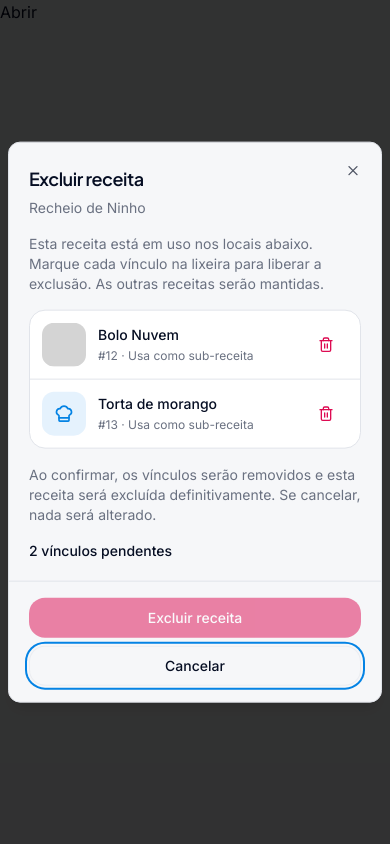
Test case: Recipe deletion confirmation › requires a fresh review when the server reports a changed dependency
Expected: the text "Bolo Nuvem" is shown, [98,326,179,343]
Step 1. Click the button named "Remover vínculo com Bolo Nuvem" → (326, 344), box [304,322,348,366]
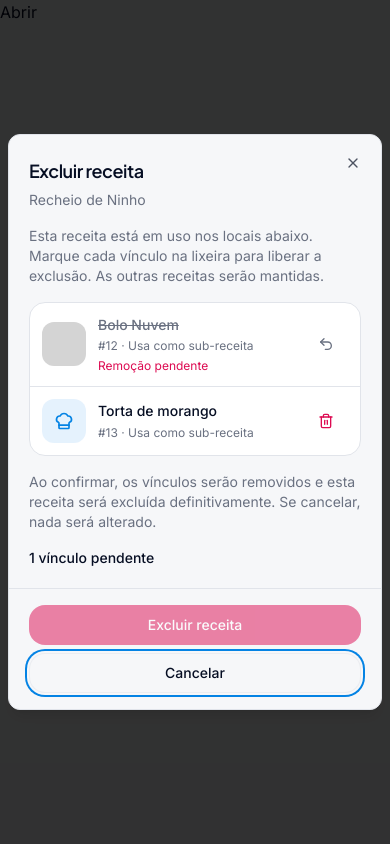
Step 2. Click the button named "Remover vínculo com Torta de morango" → (326, 421), box [304,399,348,443]
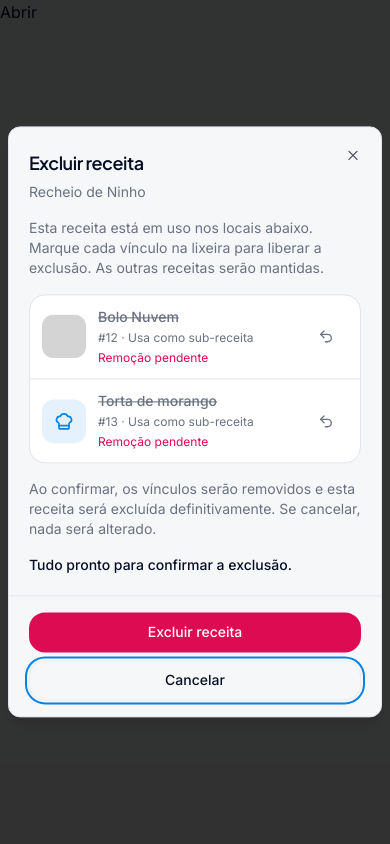
Step 3. Click the button "Excluir receita" → (195, 633), box [29,613,361,653]
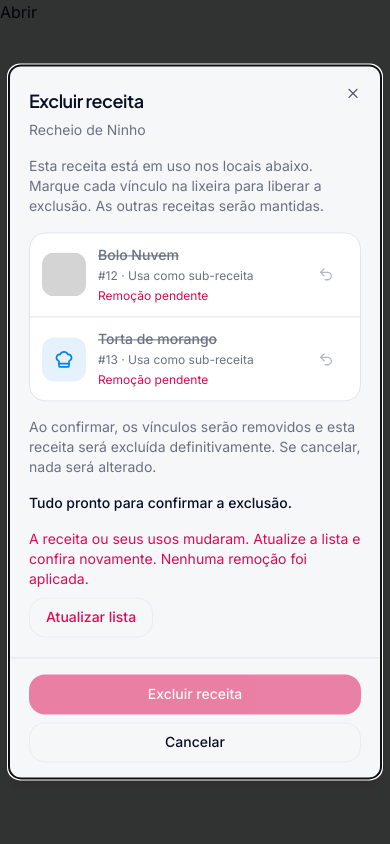
Expected: the 2nd message is shown, [29,530,361,638]
Expected: the button "Excluir receita" is disabled, [29,675,361,715]
Step 4. Click the button "Atualizar lista" → (91, 618), box [29,598,153,638]
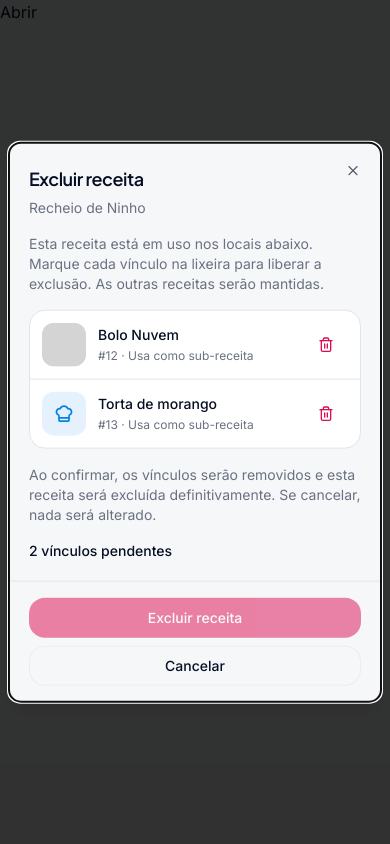
Expected: the text "Bolo Nuvem" is shown, [98,326,179,343]
Expected: the button "Excluir receita" is disabled, [29,597,361,637]
Expected: the text "Remoção pendente" is gone
